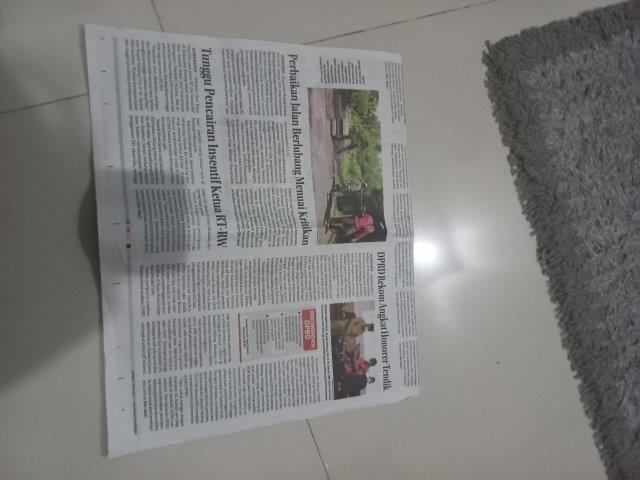kertas: (84, 21, 419, 456)
